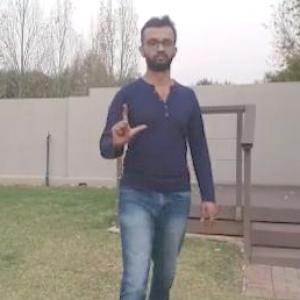land_hand: (106, 98, 149, 149)
